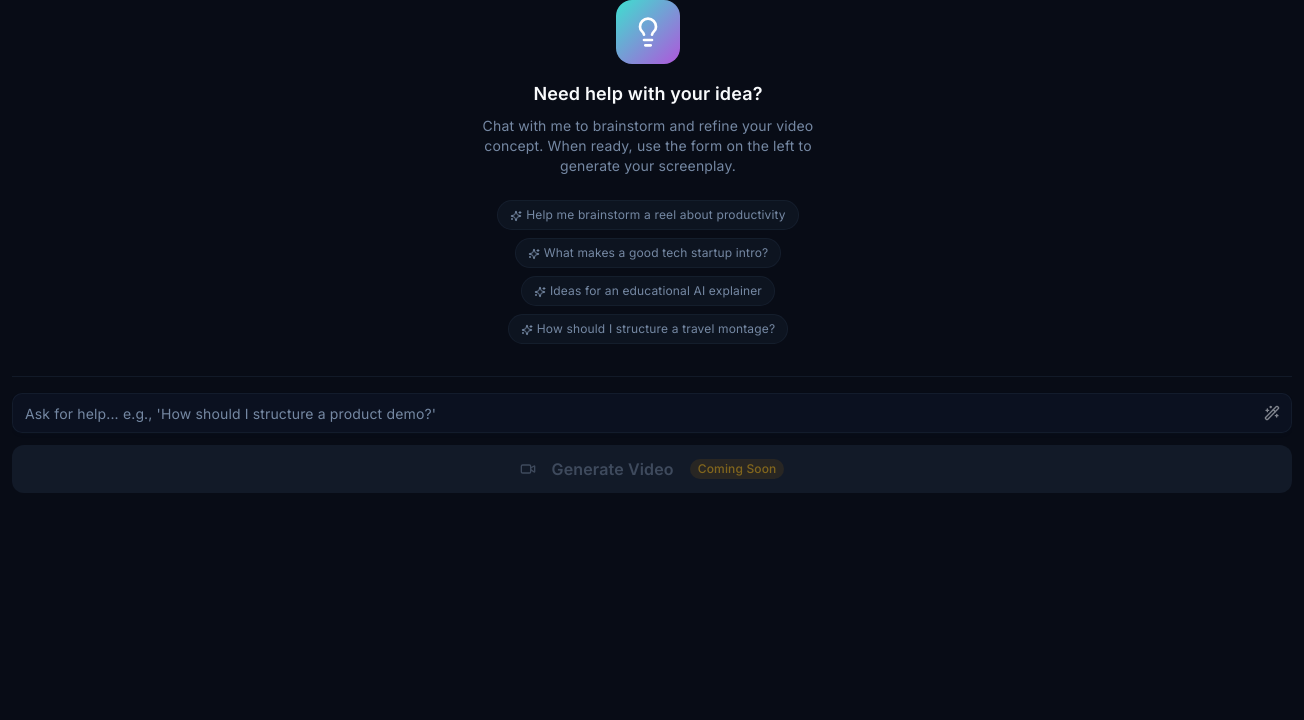
ChatPanel › User input › should fill input when suggestion is clicked
The width and height of the screenshot is (1304, 720).
Step 1. Click the button "Help me brainstorm a reel about productivity" → click(648, 215), box top-left (497, 200), bottom-right (799, 230)
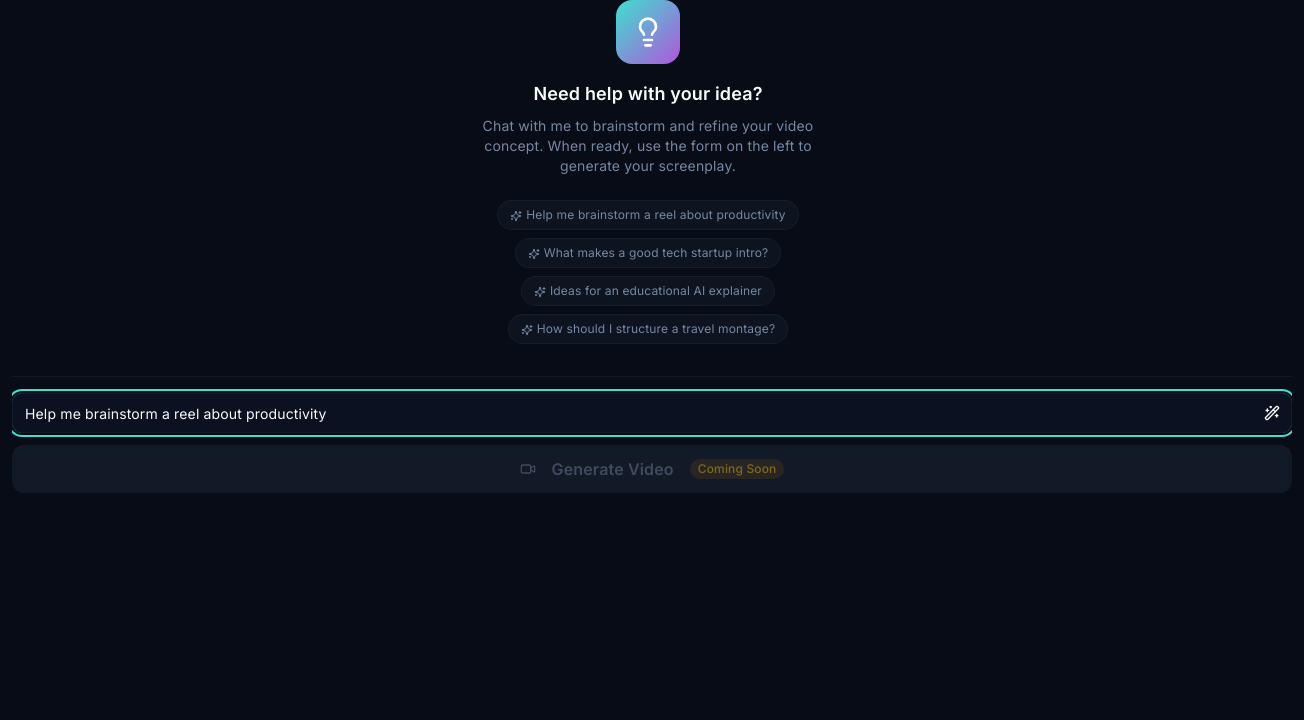
Expected: the field with placeholder "Ask for help" holds "Help me brainstorm a reel about productivity", top-left (12, 393), bottom-right (1292, 433)
